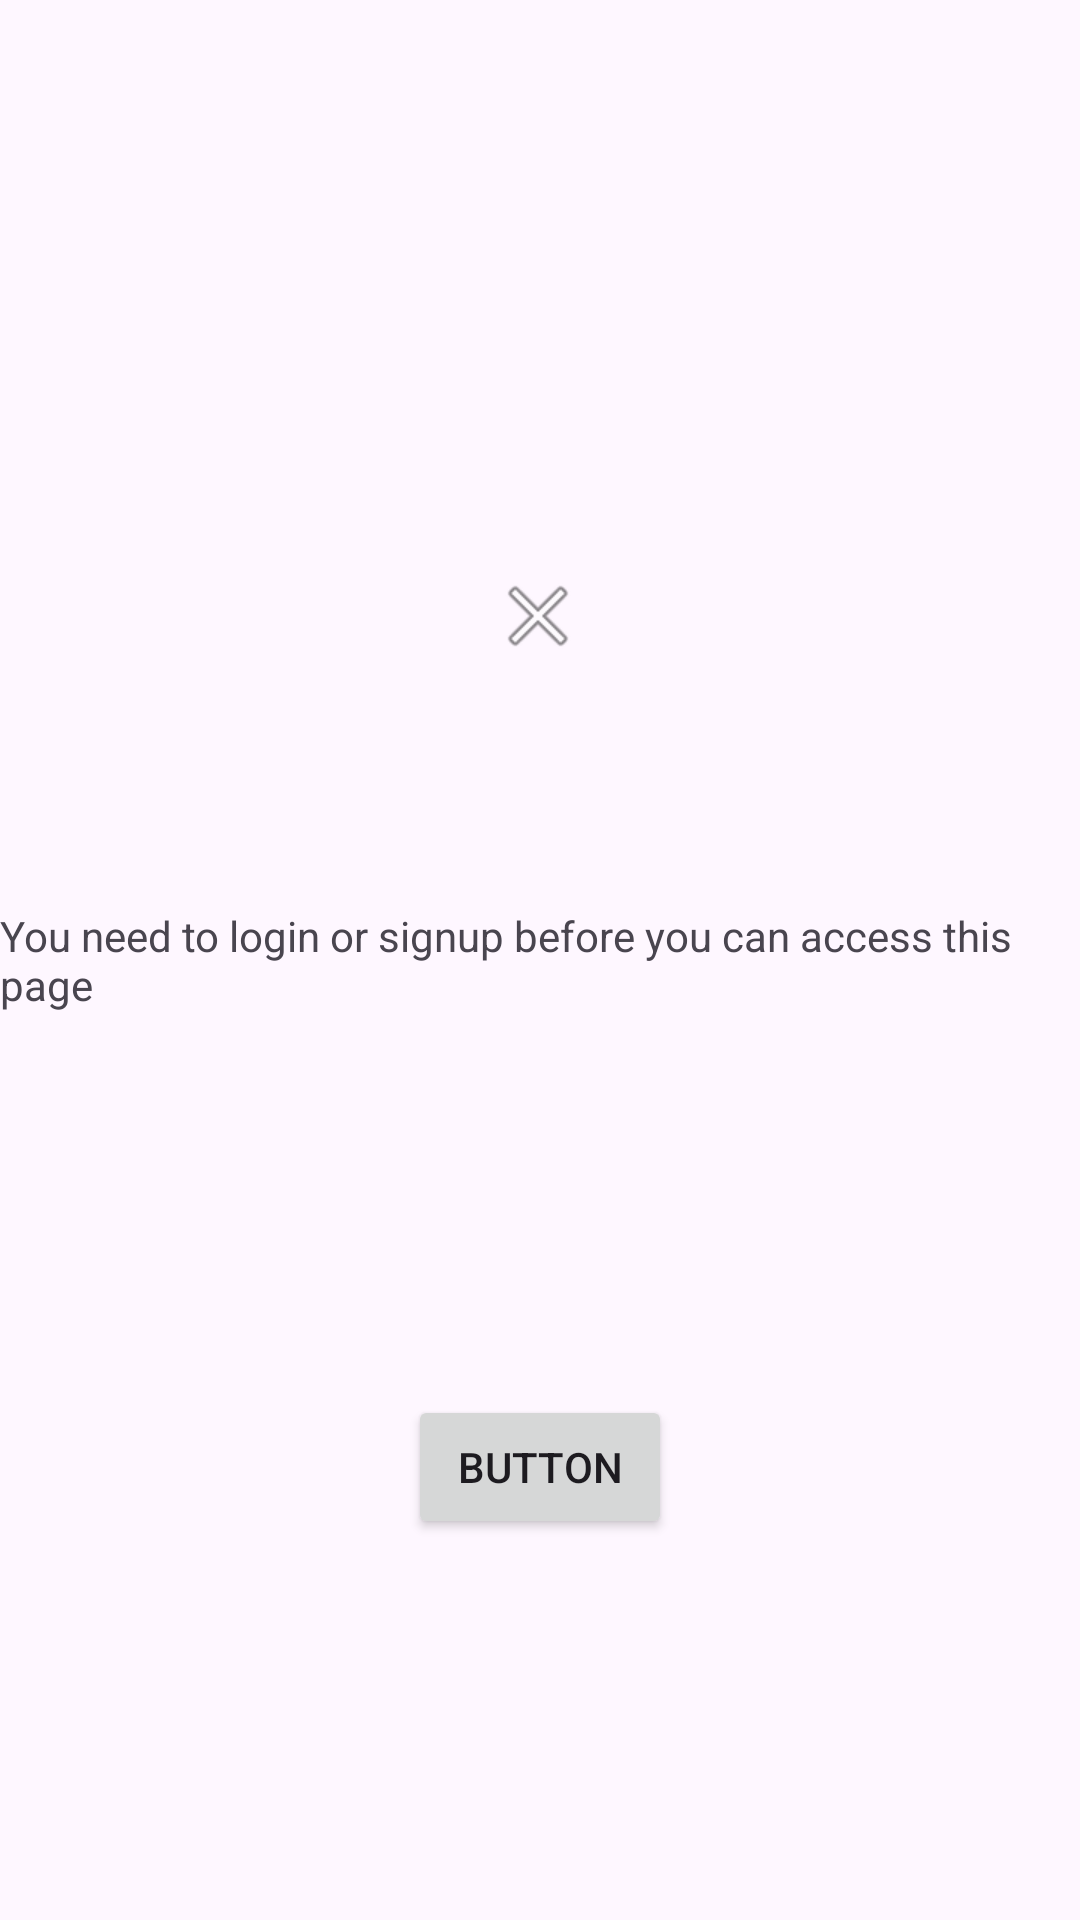

Where icons sit on this 1080w x 1920h app screen, as (x1, y1, x2, y2):
close clear cancel: (508, 586, 568, 646)
